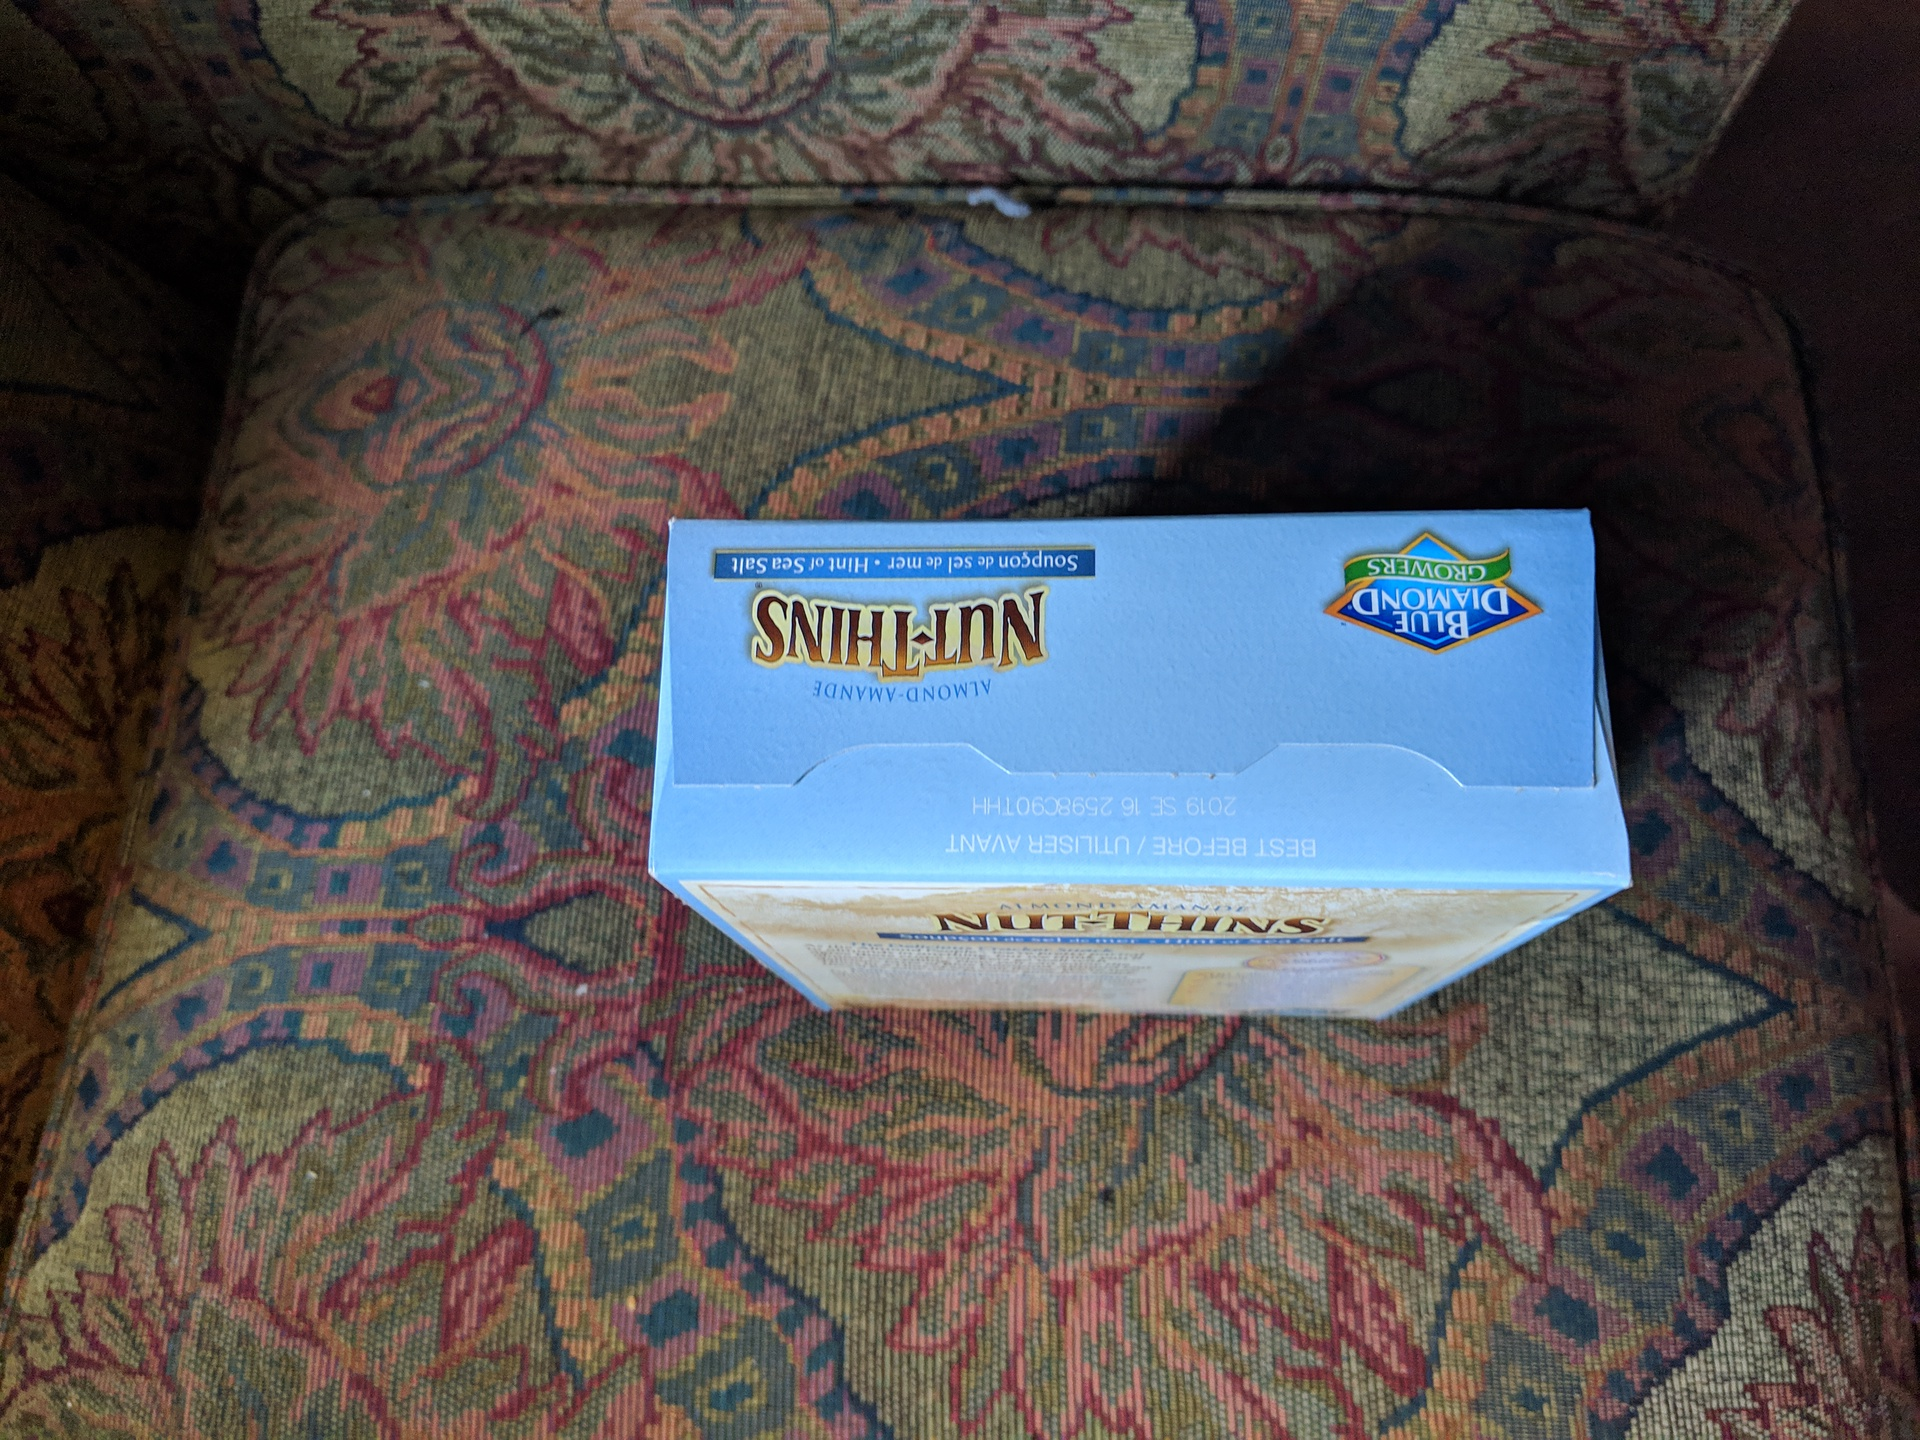blue_diamond_nut_thins_almond_seasalt: (670, 517, 1621, 1013)
